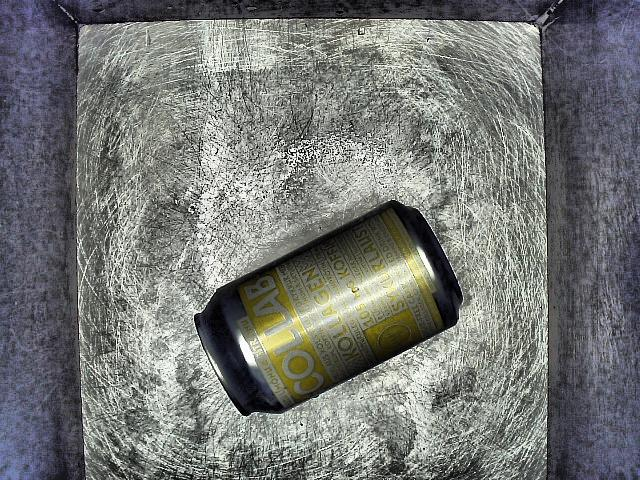Bottles: (163, 195, 471, 422)
